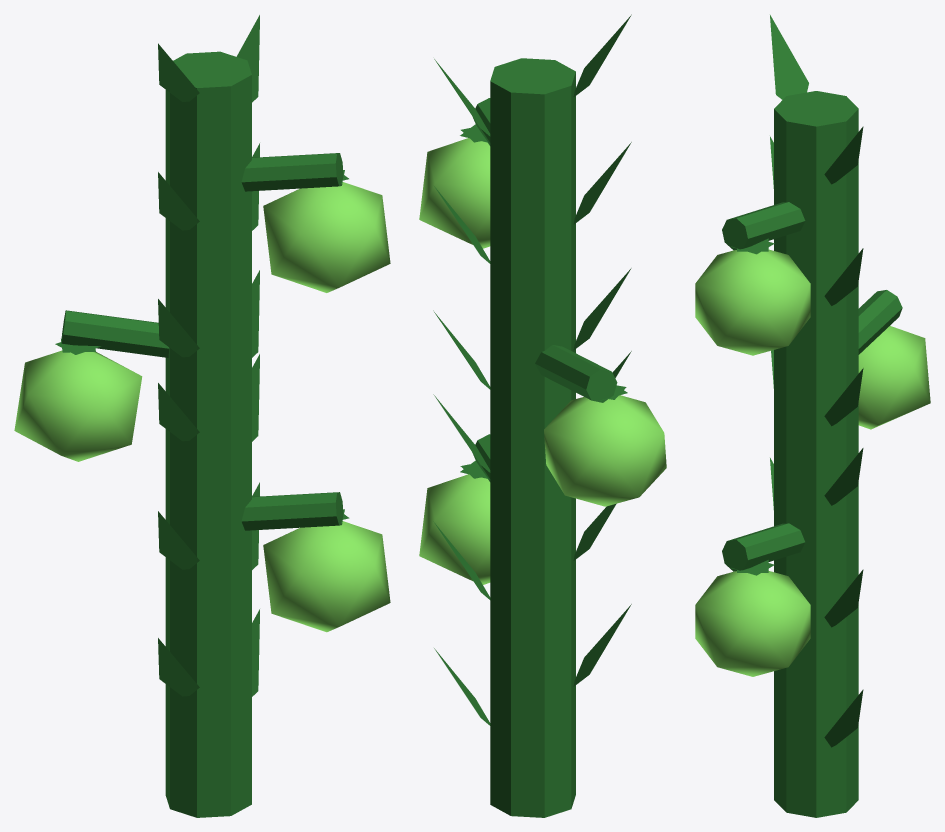
The model's file is tomatoe_stage_3.glb.
3 renders of one model, left to right at view 1: azimuth 30°, elevation 25°; view 2: azimuth 150°, elevation 25°; view 3: azimuth 270°, elevation 25°, orthographic. The views are drawn at different scales.
Parts seen in each view (by area): view 1: Cylinder.004, Icosphere.004, Icosphere.003, Icosphere.002, Cylinder.006, Cylinder.005, Cylinder.003, Plane.014, Plane.017, Plane.021, Plane.013, Plane.018 (+2 smaller); view 2: Cylinder.004, Icosphere.004, Icosphere.003, Icosphere.002, Cylinder.006, Plane.017, Plane.021, Plane.018, Plane.022, Plane.014; view 3: Cylinder.004, Icosphere.002, Icosphere.003, Icosphere.004, Cylinder.003, Cylinder.005, Cylinder.006, Plane.022, Plane.012, Plane.019, Plane.020, Plane.015 (+2 smaller).
Boxes of the visible parts, x1,y1,x2,y2 form: Cylinder.004: (165,51,251,817); Icosphere.004: (14,338,142,461); Icosphere.003: (263,170,390,292); Icosphere.002: (263,509,390,632); Cylinder.006: (61,310,169,357); Cylinder.005: (241,153,343,191); Cylinder.003: (241,492,343,530); Plane.014: (158,511,199,569); Plane.017: (158,638,199,696); Plane.021: (158,172,199,230); Plane.013: (158,383,199,441); Plane.018: (158,299,199,357); Cylinder.004: (490,58,575,817); Icosphere.004: (544,385,666,506); Icosphere.003: (419,124,490,248); Icosphere.002: (419,460,490,584); Cylinder.006: (535,345,617,402); Plane.017: (573,604,631,686); Plane.021: (573,142,631,224); Plane.018: (573,268,631,350); Plane.022: (573,14,631,96); Plane.014: (573,503,616,560); Cylinder.004: (774,91,858,817); Icosphere.002: (695,560,810,676); Icosphere.003: (695,238,810,355); Icosphere.004: (858,326,930,429); Cylinder.003: (722,523,805,571); Cylinder.005: (722,202,805,250); Cylinder.006: (858,290,902,354); Plane.022: (770,15,808,99); Plane.012: (824,448,863,505); Plane.019: (824,368,863,426); Plane.020: (824,248,863,305); Plane.015: (824,569,863,627).
Bounding box in the file's own units: 0.574 × 1.47 × 0.4167.
